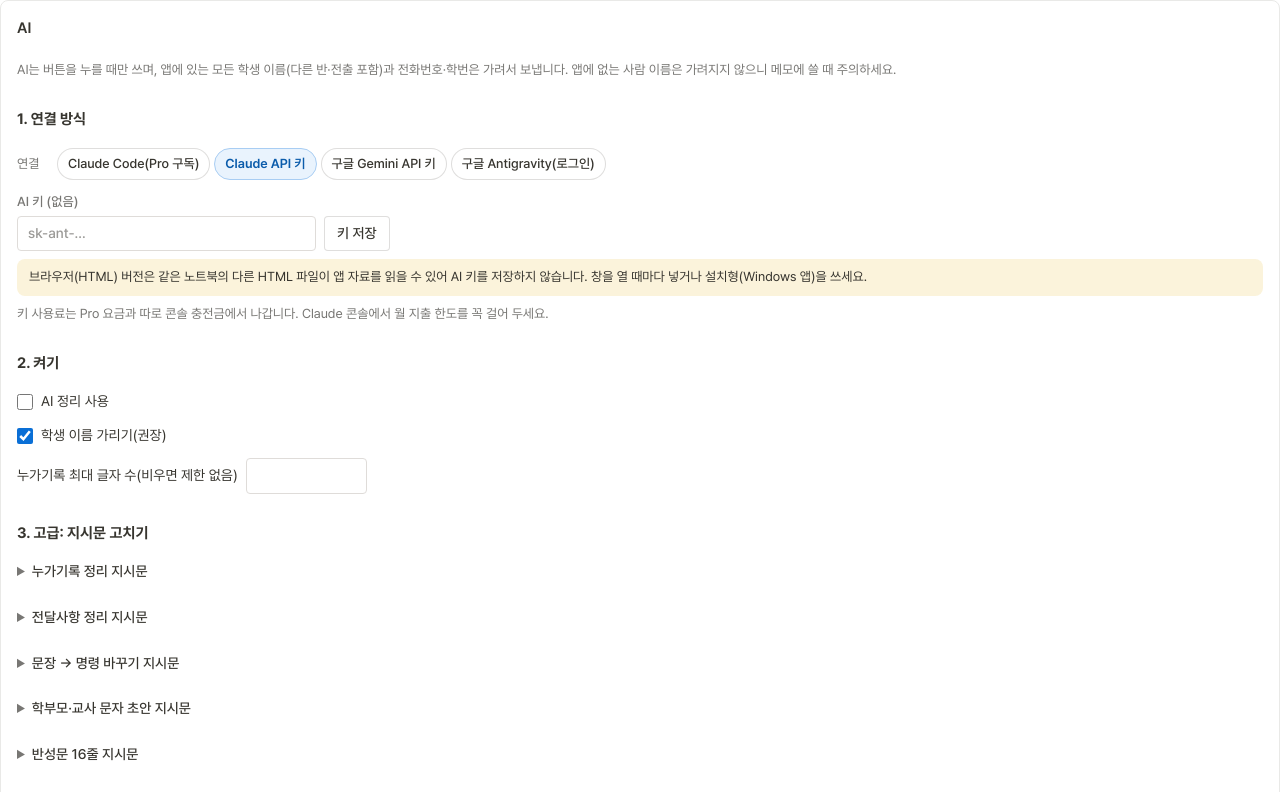
Test: Antigravity(구글 로그인)를 고르면 학습 끄기 안내가 보이고 이름 가림은 늘 켜짐(못 끔)
This screenshot has width=1280, height=792.
Click the radio button labelled "구글 Antigravity(로그인)" at (528, 164), box [451,148,606,180]
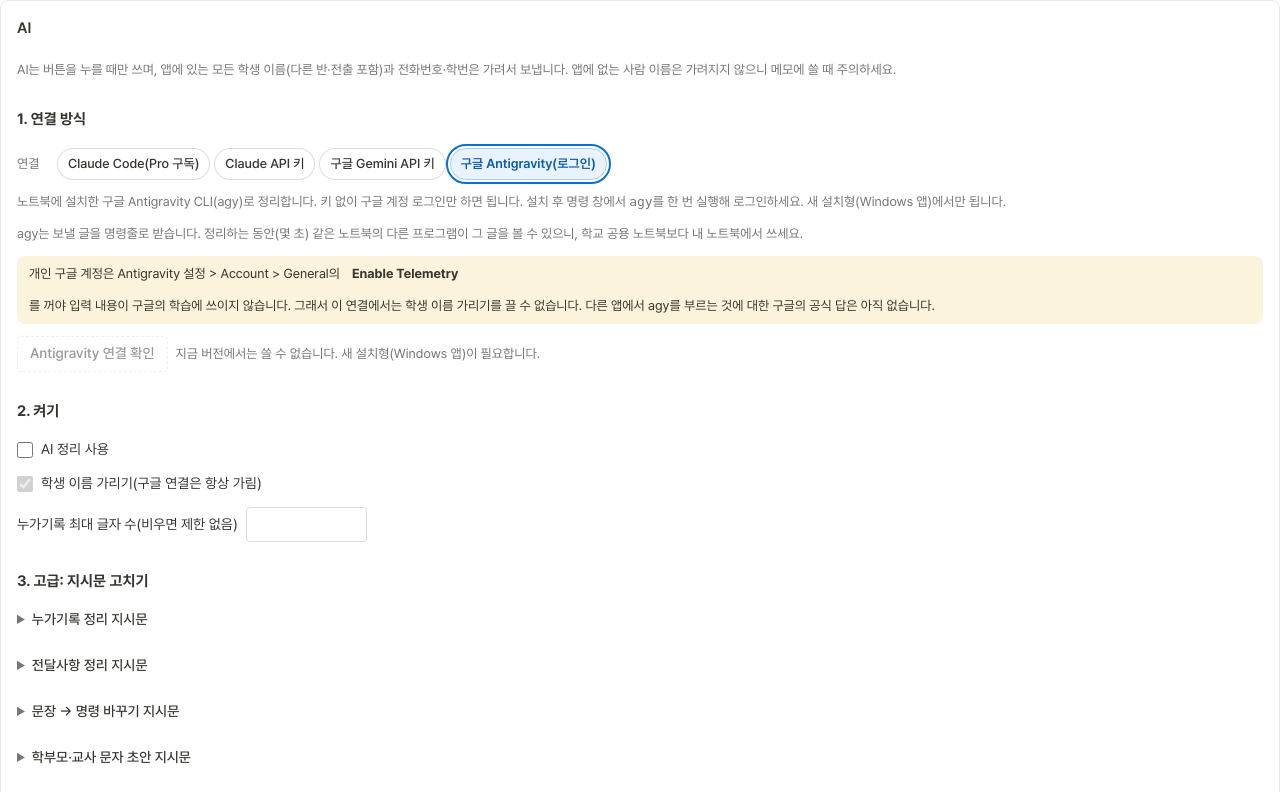
Expected: the checkbox labelled "학생 이름 가리기(구글 연결은 항상 가림)" is checked, [17,476,33,492]
Result: the text "Enable Telemetry" is shown at [352,264,458,284]
Result: the checkbox labelled "학생 이름 가리기(구글 연결은 항상 가림)" is disabled at [17,476,33,492]
